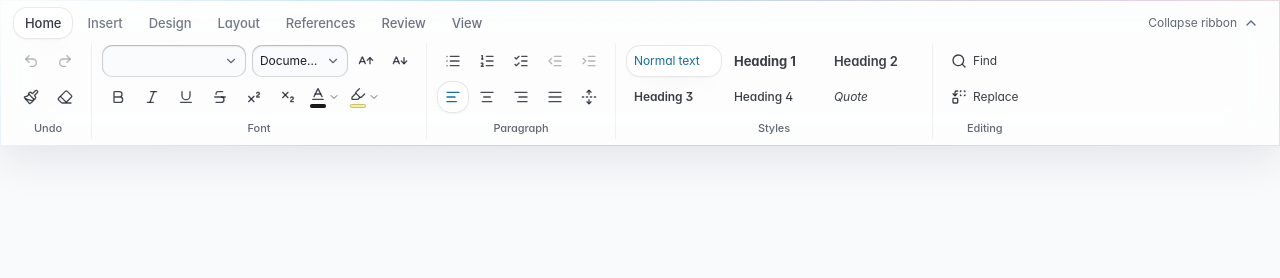
Test: equation ribbon › says there is nothing to refer to before the first numbered equation
Click the tab "Insert" at (105, 23), box [75, 7, 135, 39]
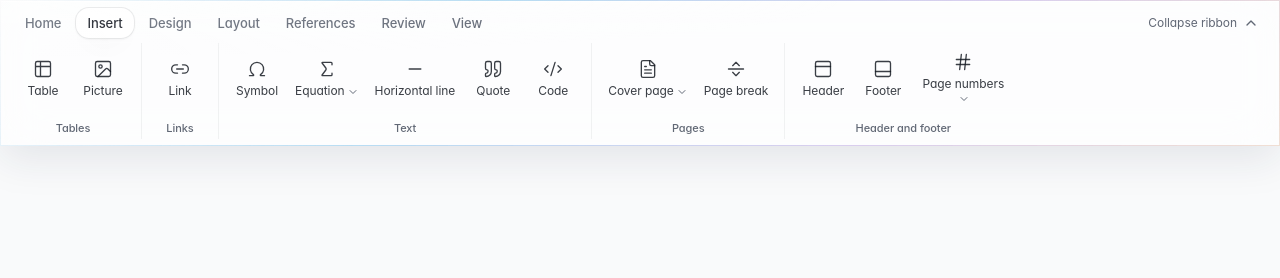
Click the button with test id "doc-equation" at (327, 78), box [289, 46, 365, 110]
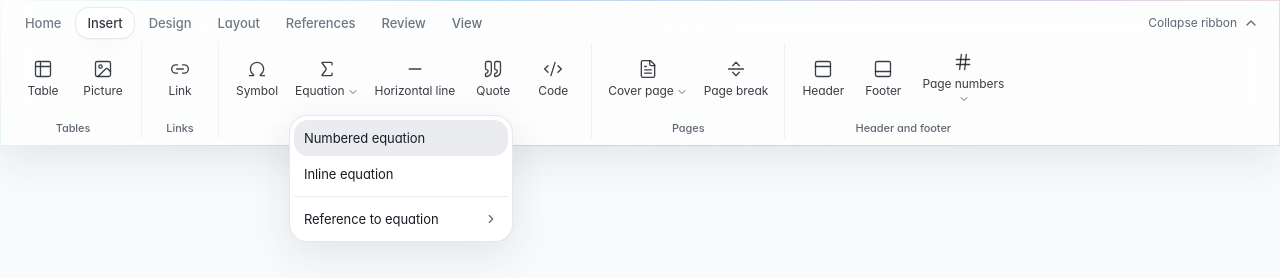
Click the menu item "Reference to equation" at (401, 218), box [294, 200, 508, 236]
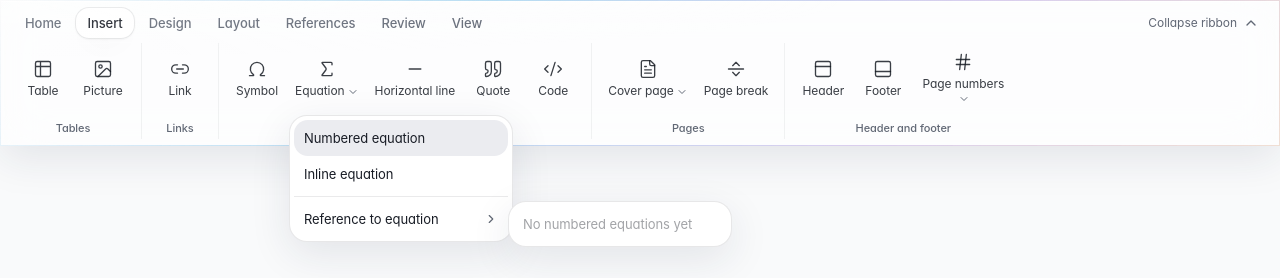
Result: the menu item "No numbered equations yet" is disabled at [513, 206, 727, 242]
